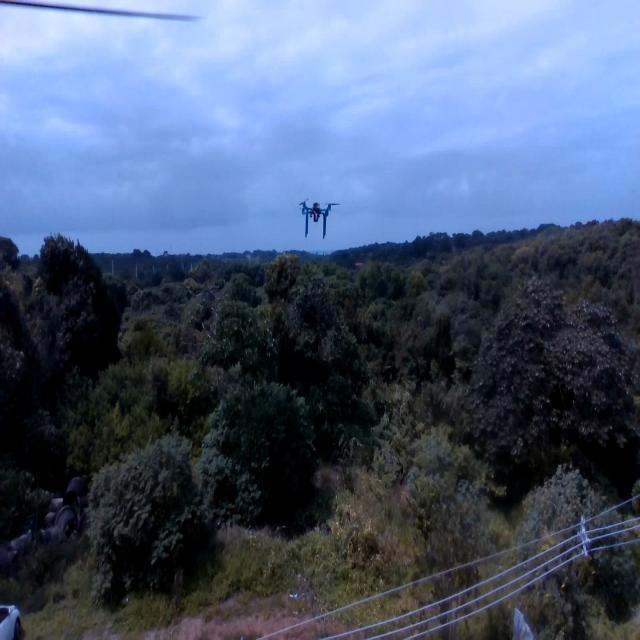-uav-: (298, 187, 342, 250)
